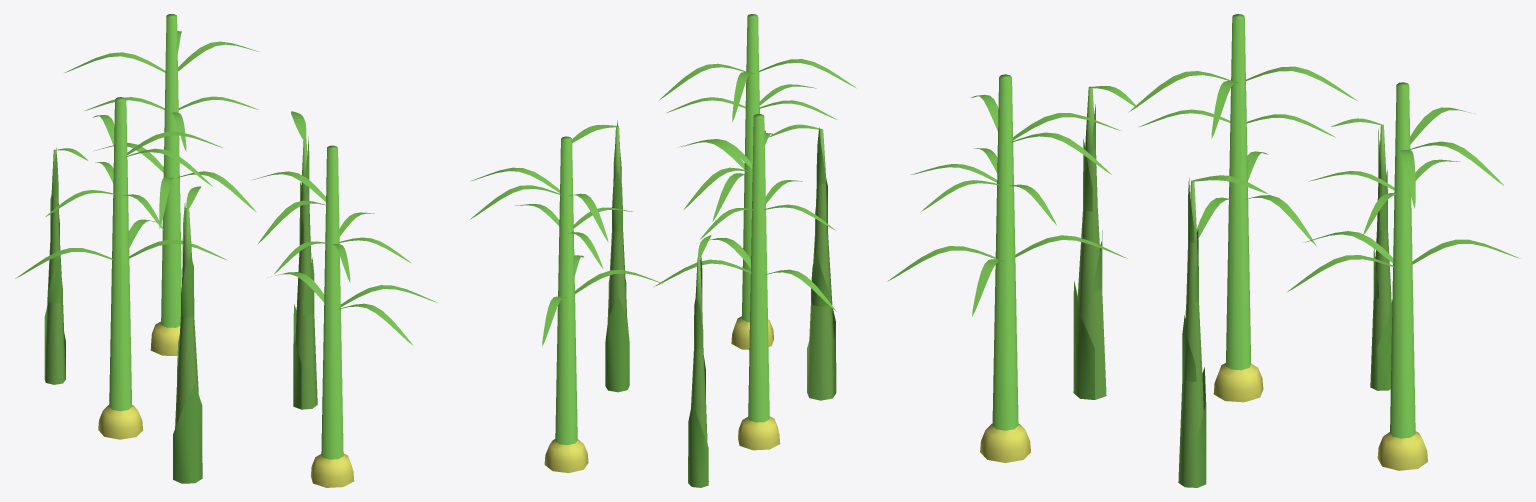
Rendered from model_verdegengibre_01.fbx.
The picture shows the model from 3 angles, left to right: view 1: azimuth 30°, elevation 25°; view 2: azimuth 150°, elevation 25°; view 3: azimuth 270°, elevation 25°; orthographic projection. The views are drawn at different scales.
Visible parts, largest first — view 1: gengibre verde; view 2: gengibre verde; view 3: gengibre verde.
Boxes of the visible parts, x1,y1,x2,y2 form: gengibre verde: [15, 14, 437, 487]; gengibre verde: [470, 14, 856, 487]; gengibre verde: [887, 14, 1520, 487].
Size of the model in its own units: 1.15 by 1.16 by 1.79.
